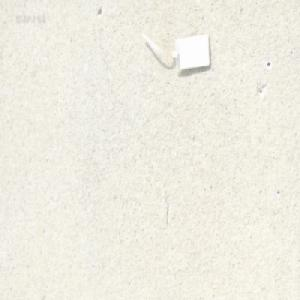LuggageTag: (139, 29, 212, 76)
